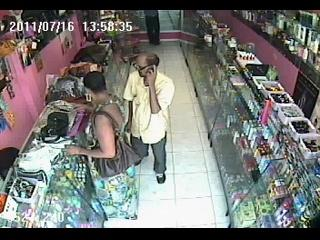Normal: (65, 72, 139, 222), (122, 52, 176, 184)
